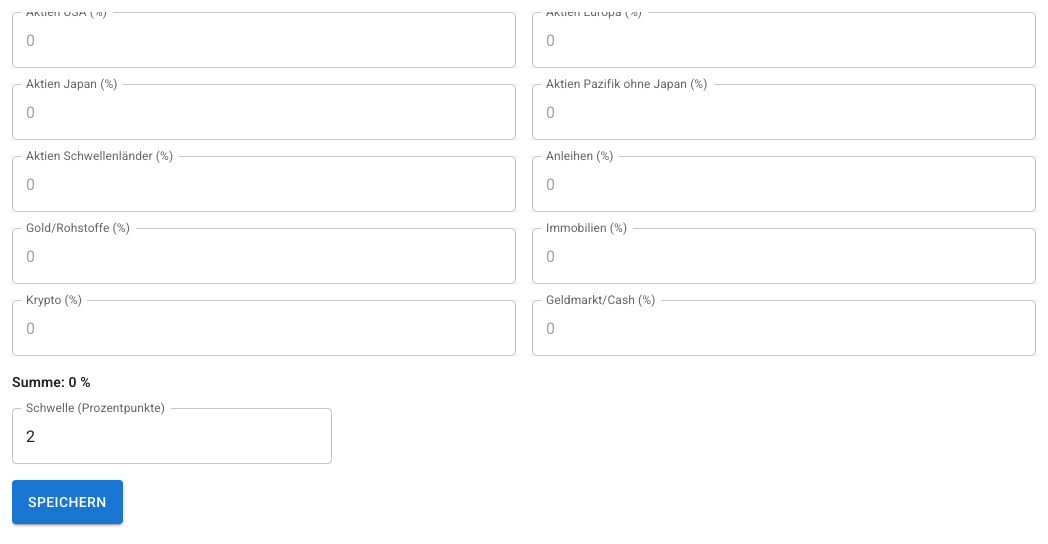
TargetForm › saves every field with the scope and confirms
This screenshot has width=1048, height=544.
Expected: the field labelled "Schwelle (Prozentpunkte)" holds "2", [12,408,332,464]
Type "100" into the field labelled "Aktien Europa (%)" at (784, 40), box [532,12,1036,68]
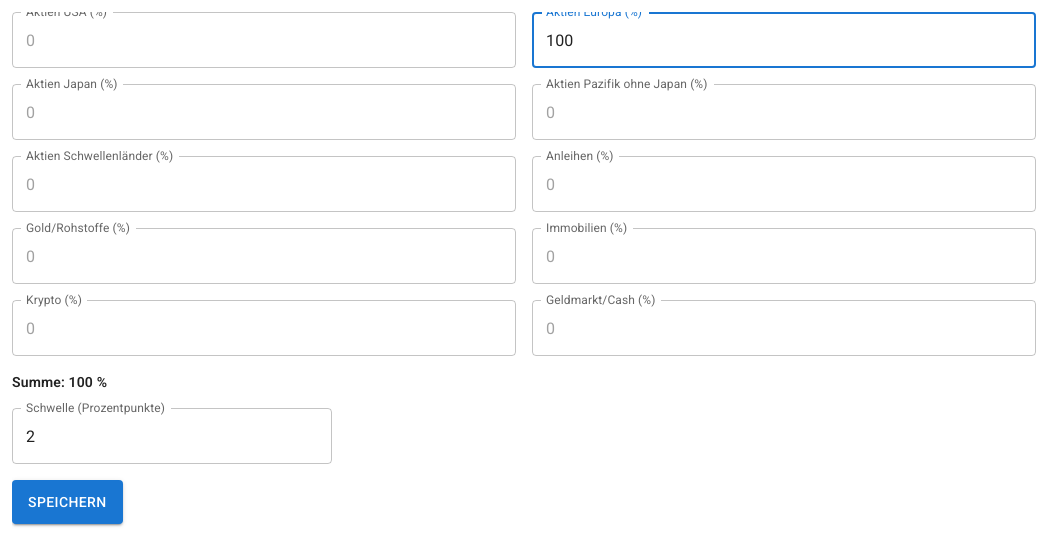
Click the button "Speichern" at (67, 502), box [12,480,123,524]
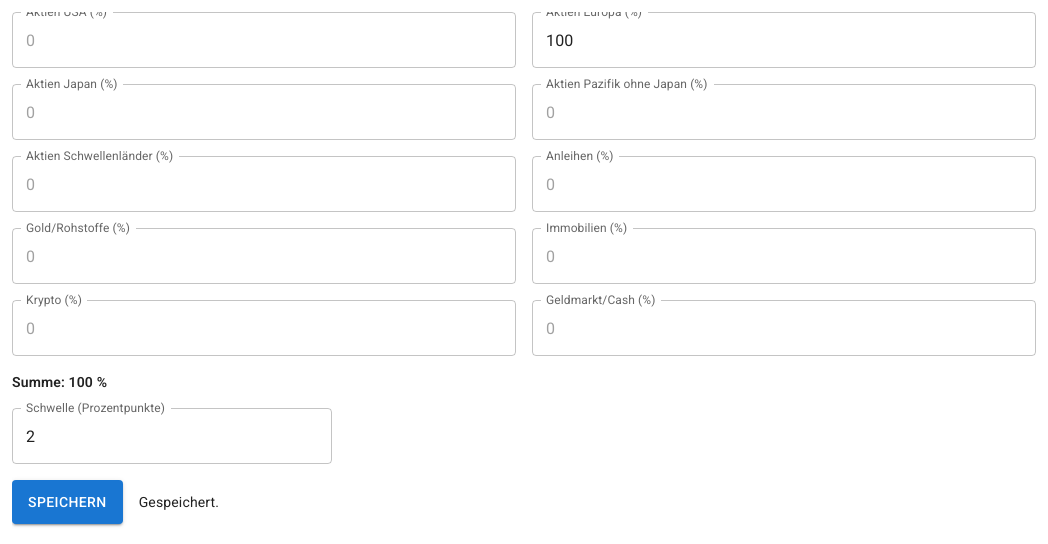
Now the text "Gespeichert." is shown, box [139,492,219,512]
